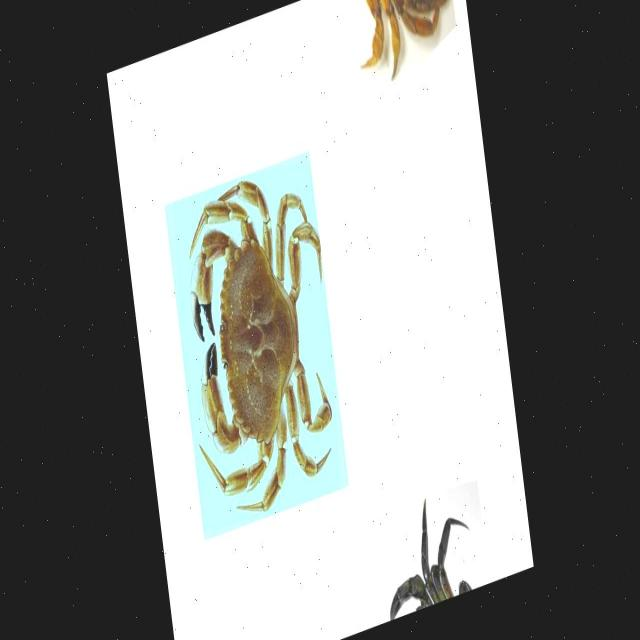egc: (389, 500, 472, 625)
